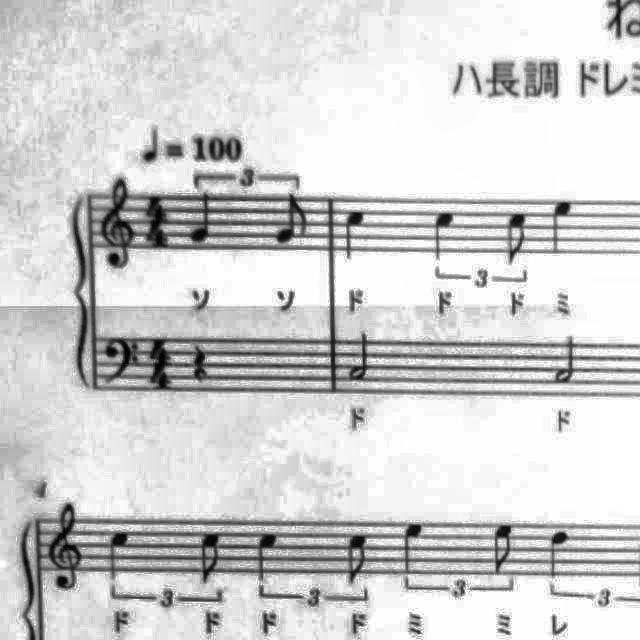Bass-clef: (100, 332, 146, 390)
Eighth-note: (270, 190, 312, 250), (499, 206, 537, 270), (192, 526, 230, 590), (338, 528, 372, 592), (486, 520, 522, 580)
Half-note: (547, 329, 583, 387), (344, 326, 376, 386)
Quarter-note: (542, 191, 582, 259), (396, 518, 432, 588), (337, 204, 375, 268), (424, 205, 462, 267), (248, 526, 284, 590), (541, 525, 577, 587), (102, 525, 138, 587), (188, 188, 220, 248)
Quarter-rest: (188, 338, 216, 387)
Treble-clef: (44, 499, 90, 597), (99, 169, 141, 271)
